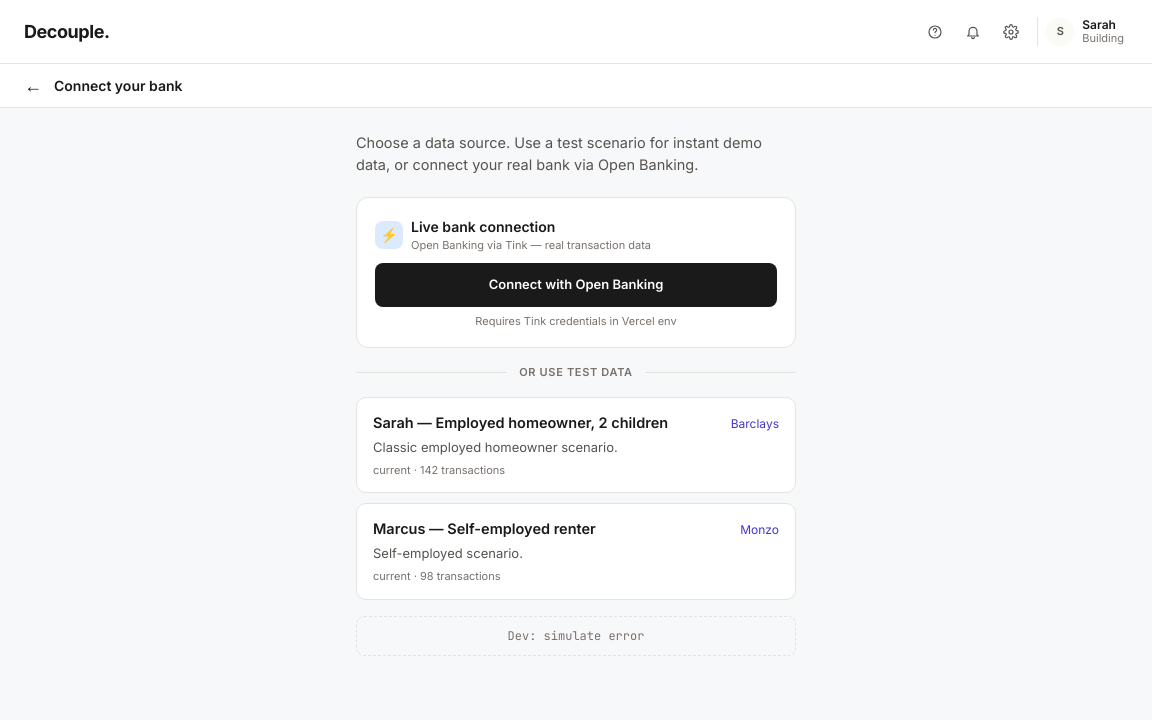
Test case: /dev/proto/bank-connect page › "Try again" resets to initial state (AC-4)
Click the button with test id "simulate-error" at (576, 636), box [356,616,796,656]
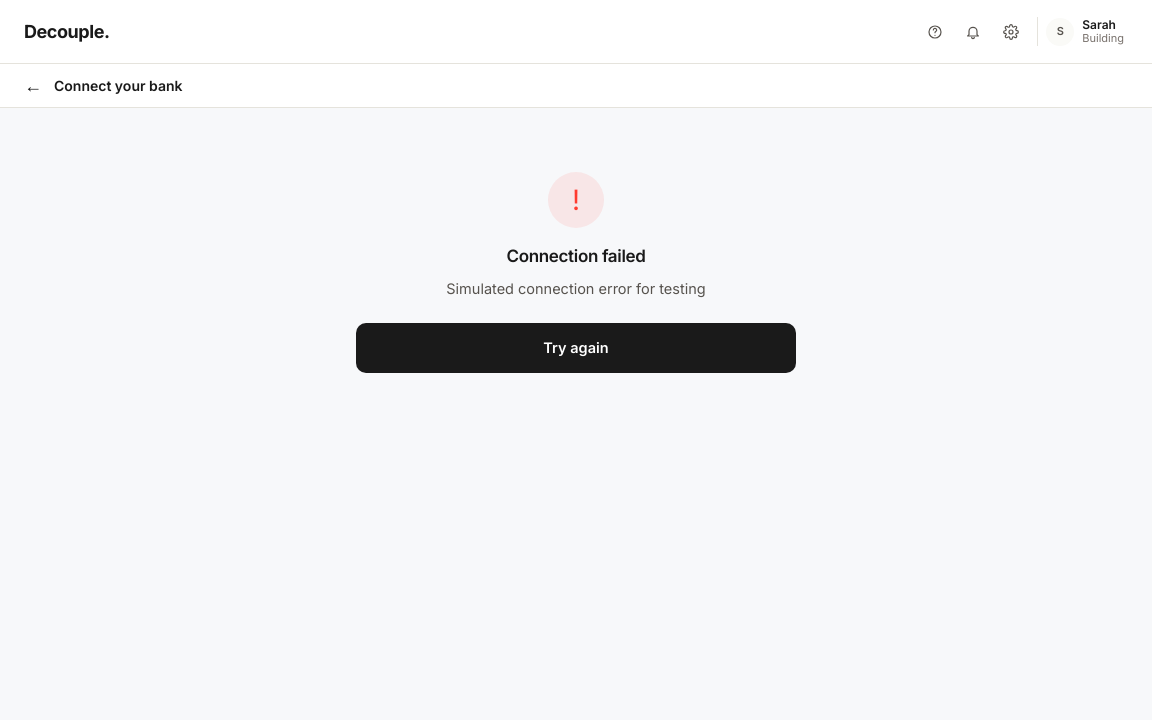
Click the button "Try again" at (576, 348), box [356,323,796,373]
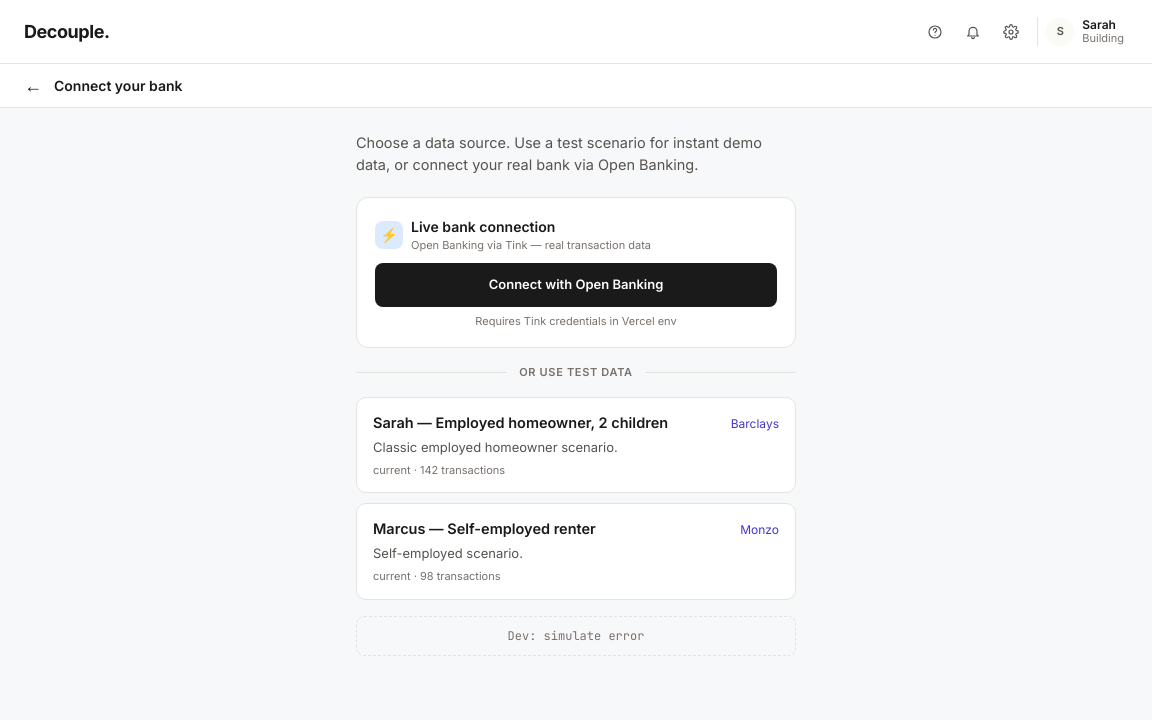
Now the text "Sarah — Employed homeowner, 2 children" is shown, box [373,412,668,434]
